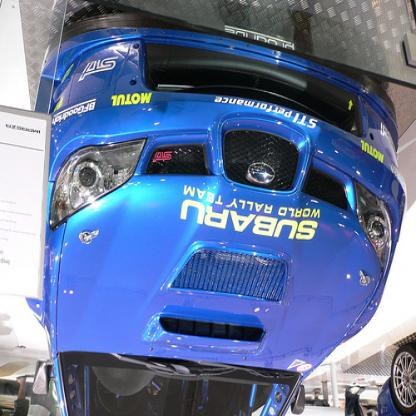car: (26, 9, 409, 416)
